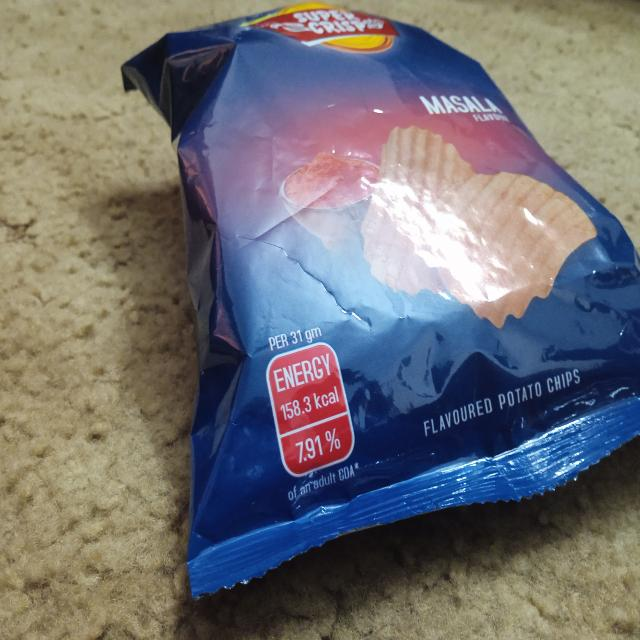Plastic: (119, 0, 640, 595)
